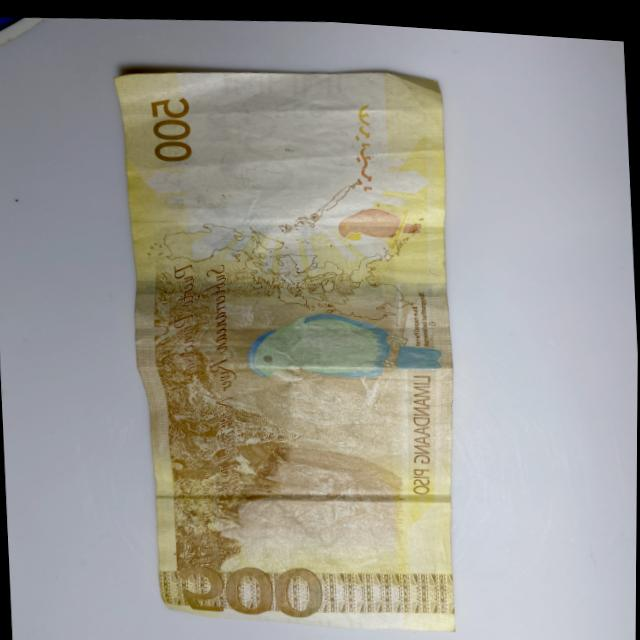500_big_parrot: (244, 301, 444, 387)
500_parrot_watermark: (334, 199, 422, 241)
value_watermark: (271, 94, 328, 116)
